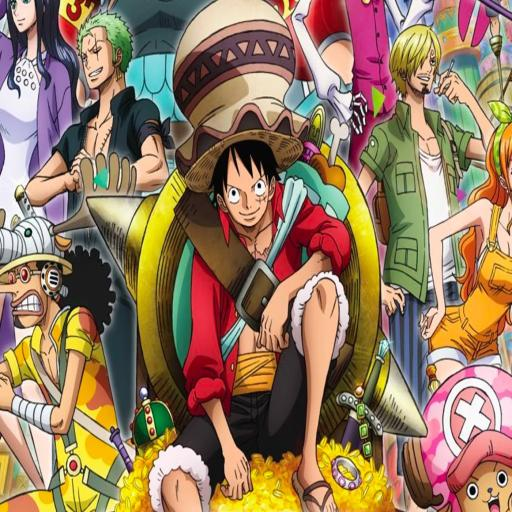Luffy: (134, 140, 349, 512)
Nami: (420, 85, 511, 402)
NicoRobin: (0, 0, 86, 225)
Usopp: (0, 151, 139, 512)
Zoro: (28, 7, 168, 242)
sanji: (353, 19, 493, 443)
